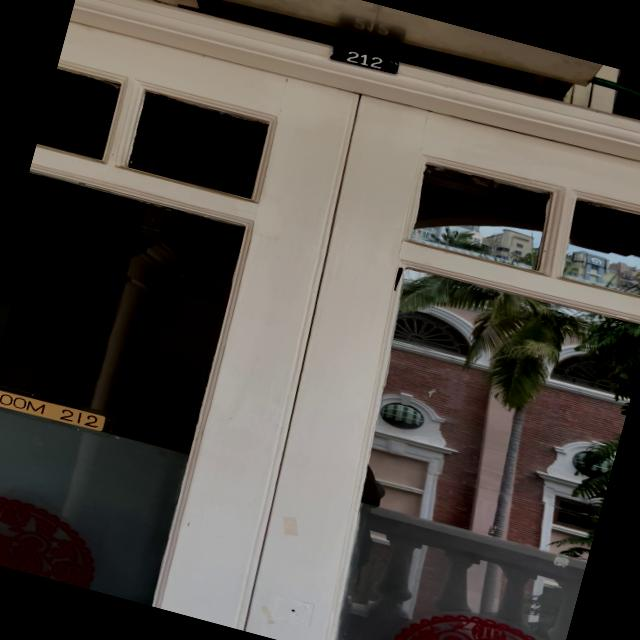room212: (322, 38, 410, 85)
room212Window: (0, 378, 114, 441)
